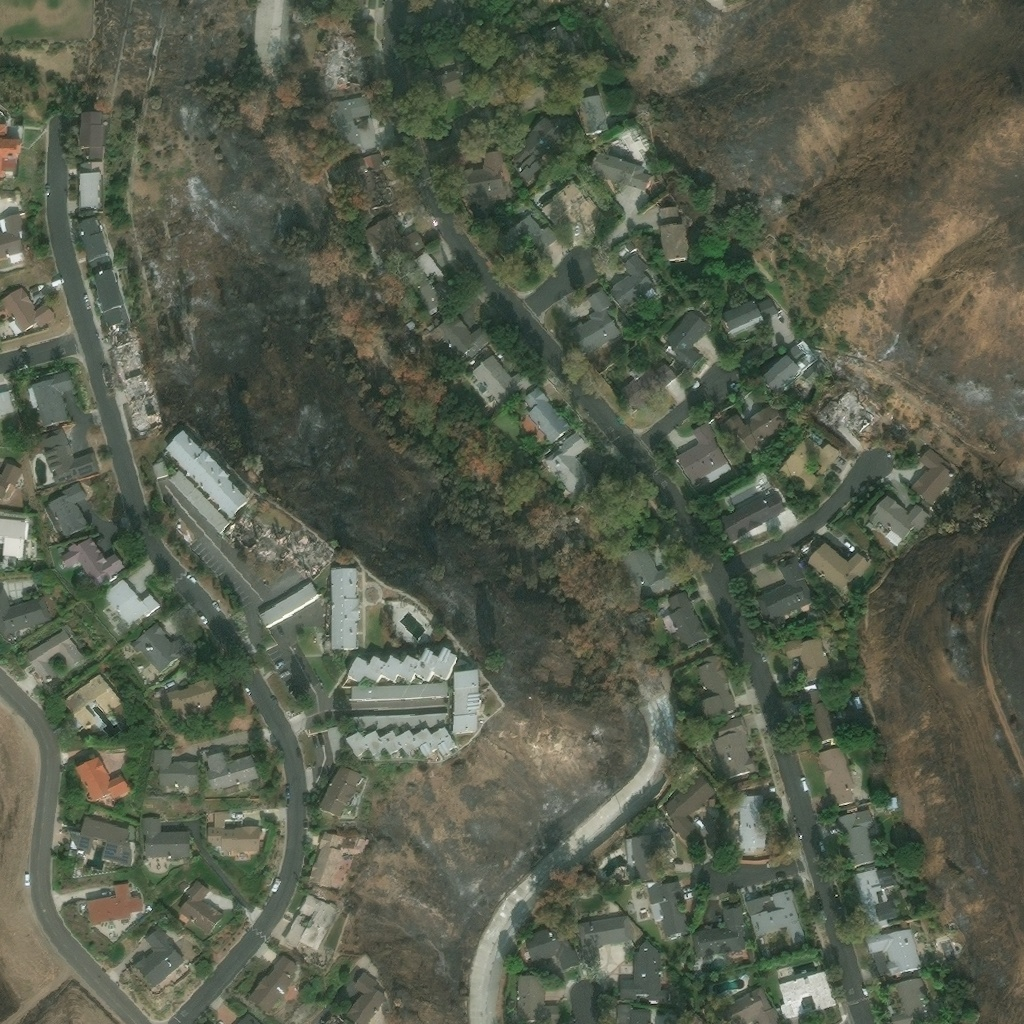0 no-damage: (162, 429, 251, 519), (345, 646, 459, 683), (166, 468, 230, 533), (510, 115, 571, 183), (754, 556, 815, 622), (724, 396, 795, 452), (326, 95, 388, 159), (397, 251, 458, 316), (777, 435, 841, 494), (344, 726, 456, 759), (719, 487, 785, 543), (862, 494, 931, 547), (744, 889, 808, 946), (69, 814, 137, 867), (23, 628, 85, 686), (61, 672, 123, 730), (40, 427, 100, 486), (806, 541, 871, 595), (366, 214, 426, 272), (676, 422, 732, 483), (572, 285, 621, 354), (542, 432, 594, 497), (664, 773, 715, 839), (619, 939, 669, 1006), (129, 621, 192, 674), (710, 716, 759, 784), (59, 536, 125, 586), (132, 927, 185, 988), (247, 954, 302, 1012), (518, 386, 571, 446), (437, 313, 499, 364), (257, 580, 321, 628), (853, 864, 901, 928), (760, 339, 818, 391), (618, 360, 677, 411), (501, 213, 557, 266), (777, 970, 835, 1020), (74, 755, 133, 804), (607, 251, 655, 310), (660, 590, 707, 650), (0, 286, 55, 337), (104, 578, 161, 627), (694, 655, 736, 720), (864, 928, 922, 975), (0, 587, 52, 639), (645, 881, 690, 941), (664, 310, 709, 370), (909, 447, 956, 504), (27, 370, 73, 427), (178, 879, 224, 936), (526, 923, 579, 972), (692, 906, 745, 955), (45, 481, 89, 539), (783, 631, 833, 682), (472, 354, 524, 403), (91, 265, 130, 330), (317, 765, 362, 820), (534, 23, 587, 69), (330, 568, 360, 648), (620, 544, 671, 591), (589, 152, 650, 191), (836, 808, 876, 867), (460, 150, 507, 200), (87, 883, 144, 924), (816, 746, 854, 807), (164, 677, 221, 717), (141, 815, 191, 860), (344, 972, 388, 1023), (205, 811, 259, 852), (205, 751, 259, 792), (722, 987, 782, 1023), (516, 975, 560, 1023), (77, 220, 115, 275), (801, 682, 835, 742), (0, 517, 37, 570), (540, 179, 583, 224), (889, 976, 929, 1023), (150, 749, 198, 788), (625, 834, 664, 881), (451, 670, 479, 735), (656, 206, 688, 261), (578, 915, 631, 948), (351, 713, 449, 730), (351, 683, 448, 700), (721, 299, 763, 336), (738, 794, 765, 849), (0, 214, 27, 265), (435, 63, 473, 99), (78, 112, 103, 164), (76, 164, 101, 212), (0, 124, 21, 173), (516, 82, 547, 112), (0, 460, 23, 499), (433, 0, 457, 27), (618, 1004, 652, 1023), (0, 388, 17, 418), (582, 444, 603, 468), (756, 296, 777, 316), (112, 702, 131, 722), (235, 1011, 262, 1023), (653, 546, 667, 569), (807, 430, 826, 446), (683, 892, 695, 915), (141, 666, 157, 682), (616, 242, 630, 258), (321, 1013, 341, 1023), (851, 695, 863, 708), (0, 172, 12, 179), (890, 796, 897, 807), (917, 446, 926, 454), (505, 218, 513, 226), (767, 786, 776, 793), (79, 904, 86, 913), (76, 870, 81, 876), (742, 463, 747, 468)
1 minor-damage: (282, 894, 339, 952), (308, 831, 342, 890), (578, 94, 609, 134), (310, 832, 319, 844)
2 major-damage: (351, 152, 395, 212)
3 destroyed: (226, 511, 329, 576), (317, 31, 366, 96), (817, 389, 874, 432), (109, 326, 149, 383), (126, 378, 163, 438), (882, 418, 904, 438)
